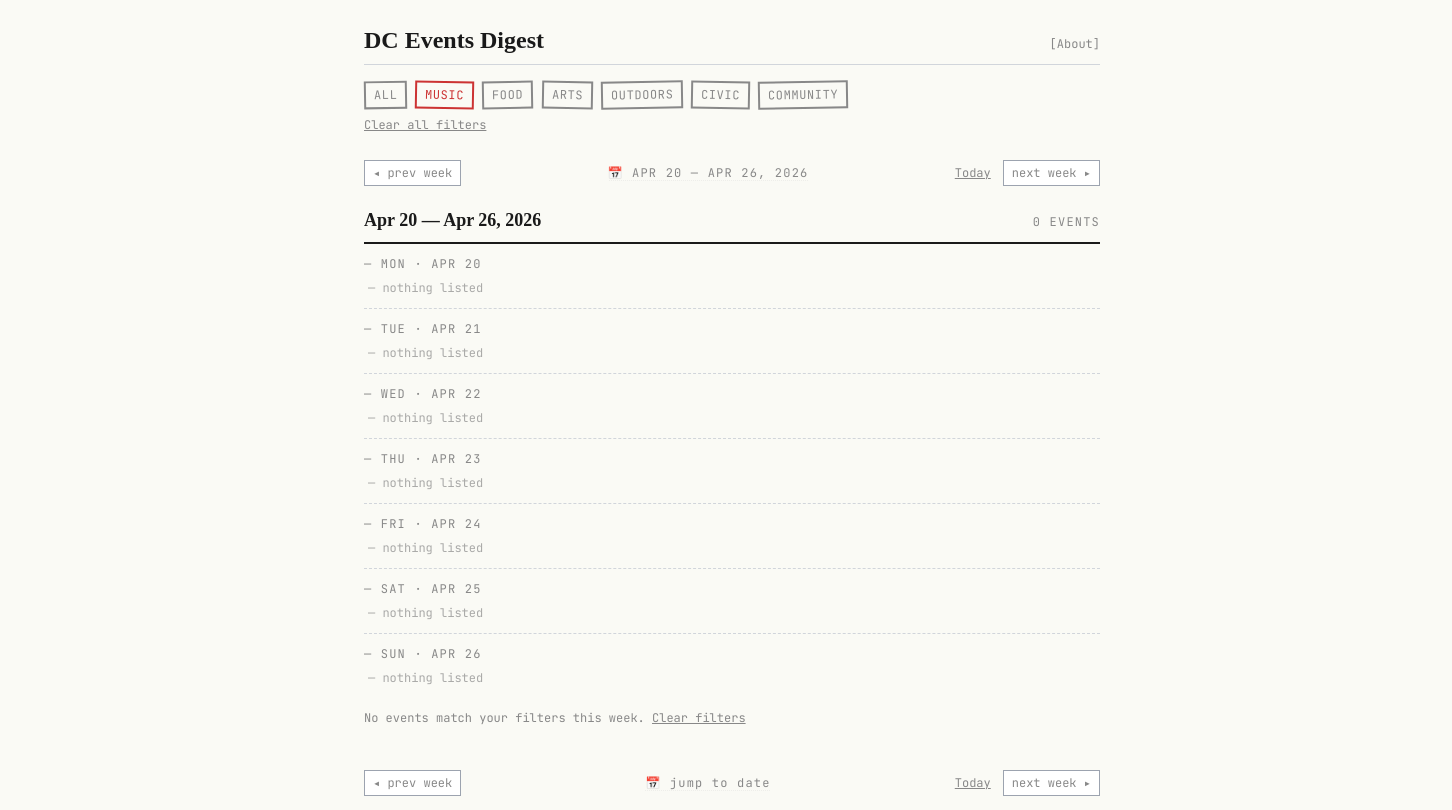
Test: CalendarPage (one week per page) › next / prev move the URL by a week and keep filters in the query string
Click the 1st button labelled "next week ▸" at coordinates (1051, 173), box [1003,160,1100,186]
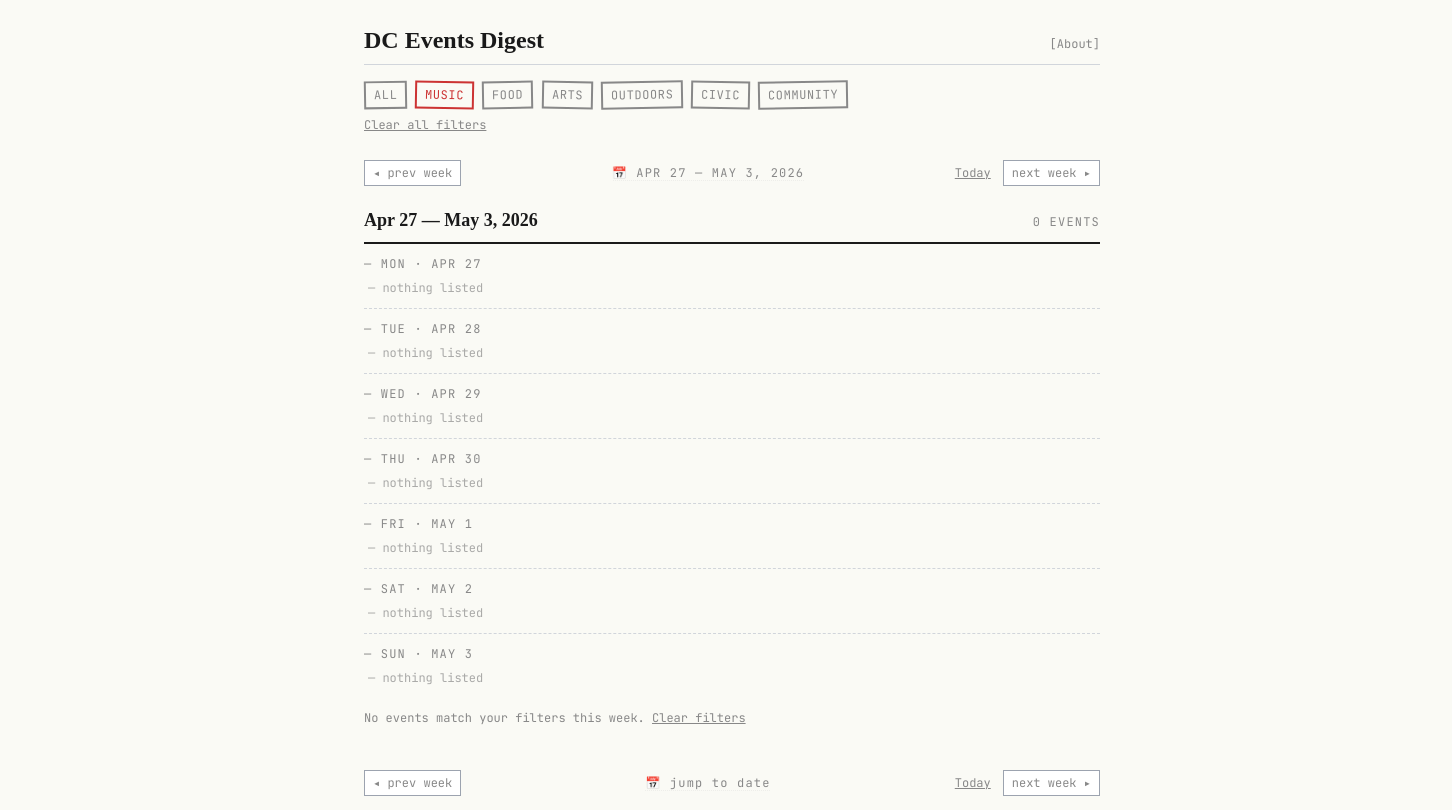
Click the button with aria-label "previous week" at coordinates (413, 173), box [364,160,461,186]
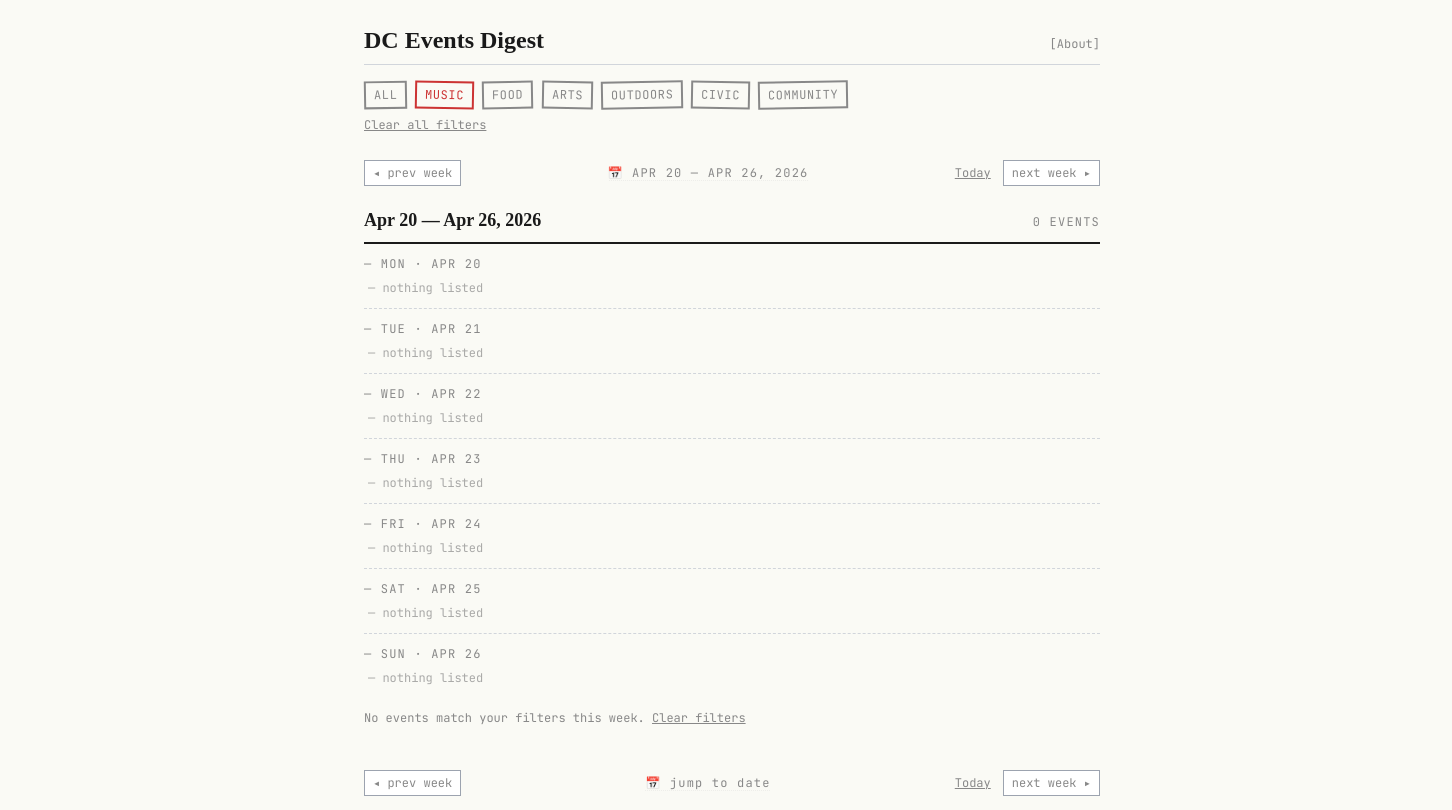
Click the button with aria-label "previous week" at coordinates (413, 173), box [364,160,461,186]
(page scrolled)
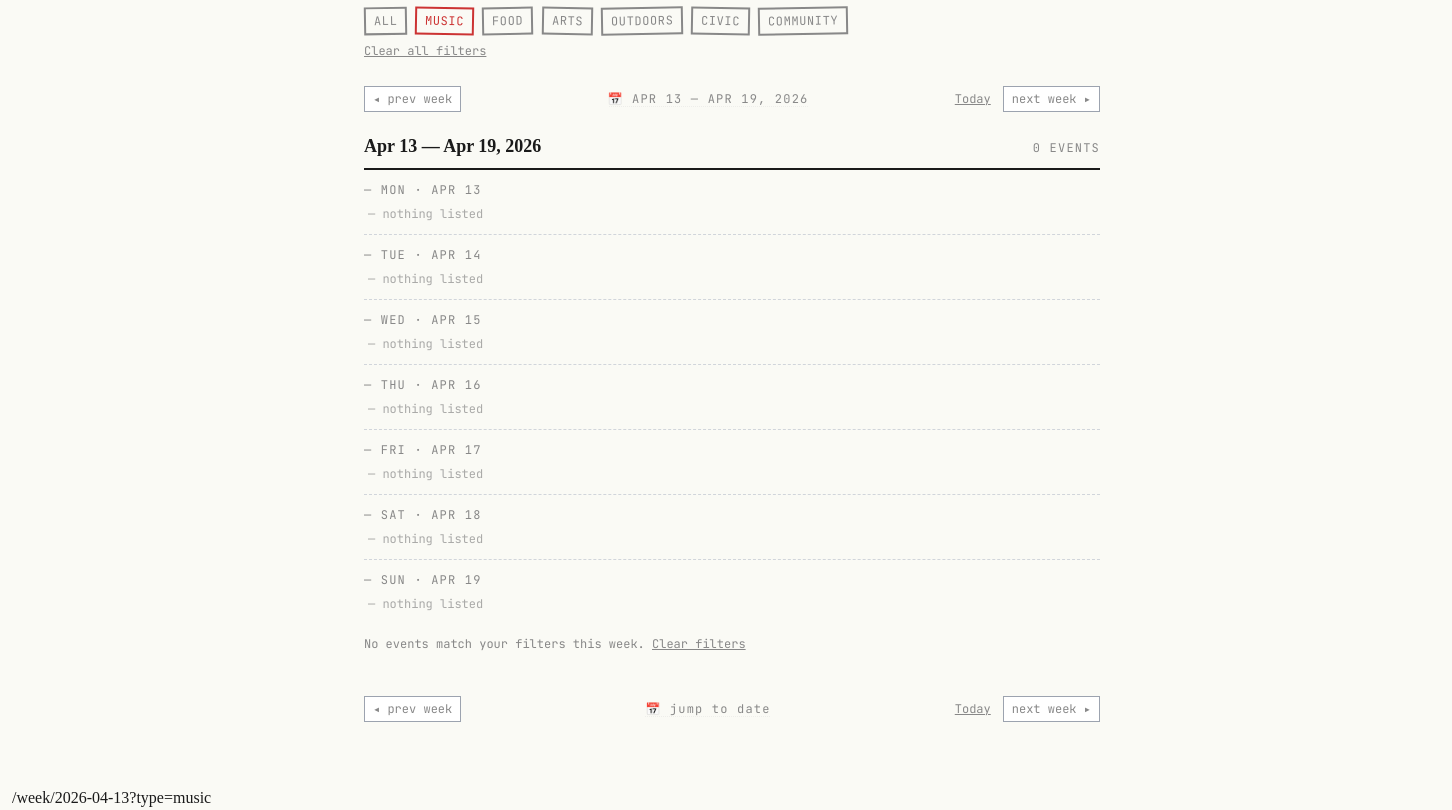
Expected: the text with test id "loc" reads "/week/2026-04-13?type=music", [12,789,211,806]
